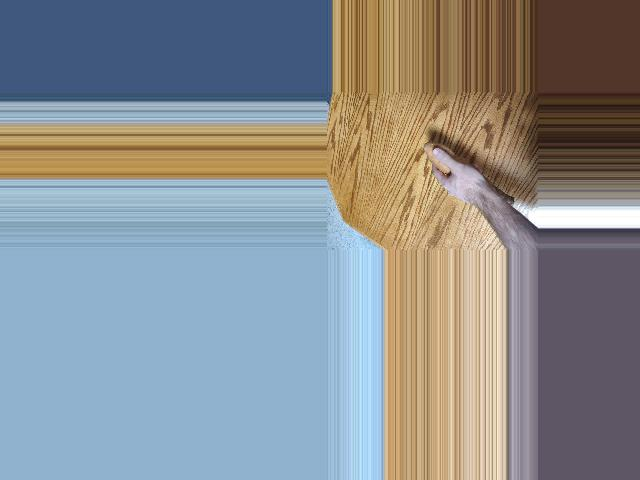sweet_potato: (424, 141, 517, 206)
